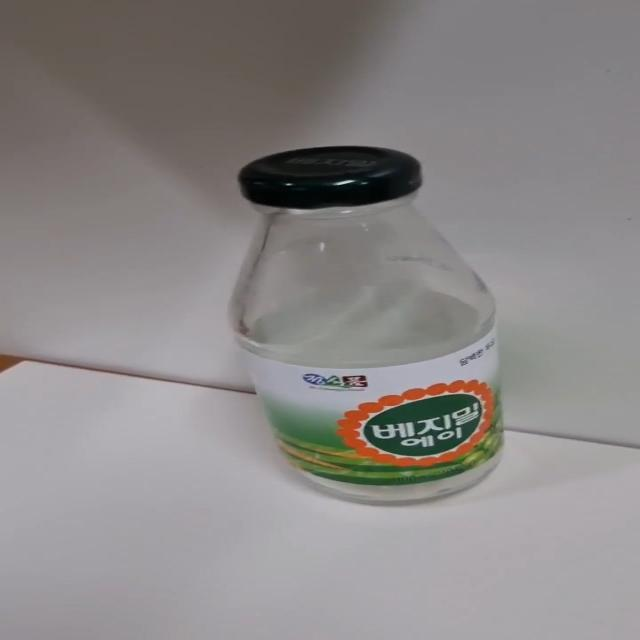Glass: (227, 146, 505, 508)
